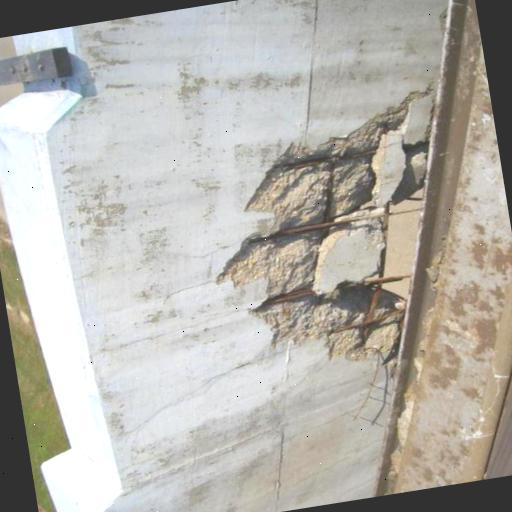spalling: (215, 138, 389, 366)
